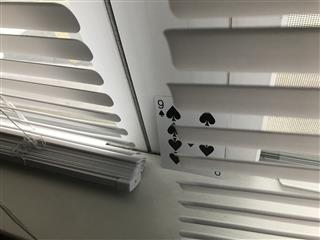NineOfSpades: (154, 94, 226, 180)
